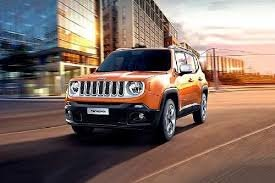mobil: (63, 44, 211, 144)
